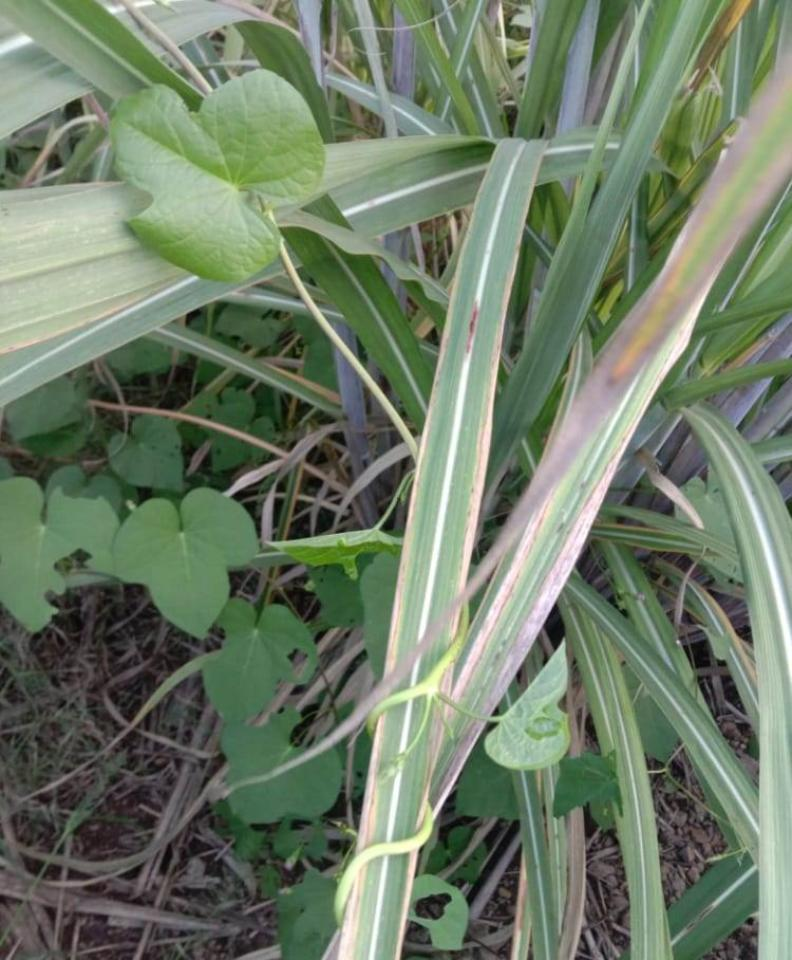RedRot: (465, 296, 481, 356)
